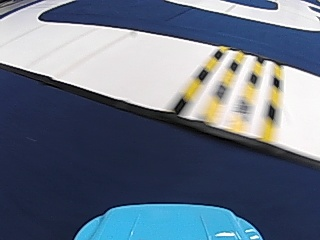bump: (171, 44, 281, 136)
